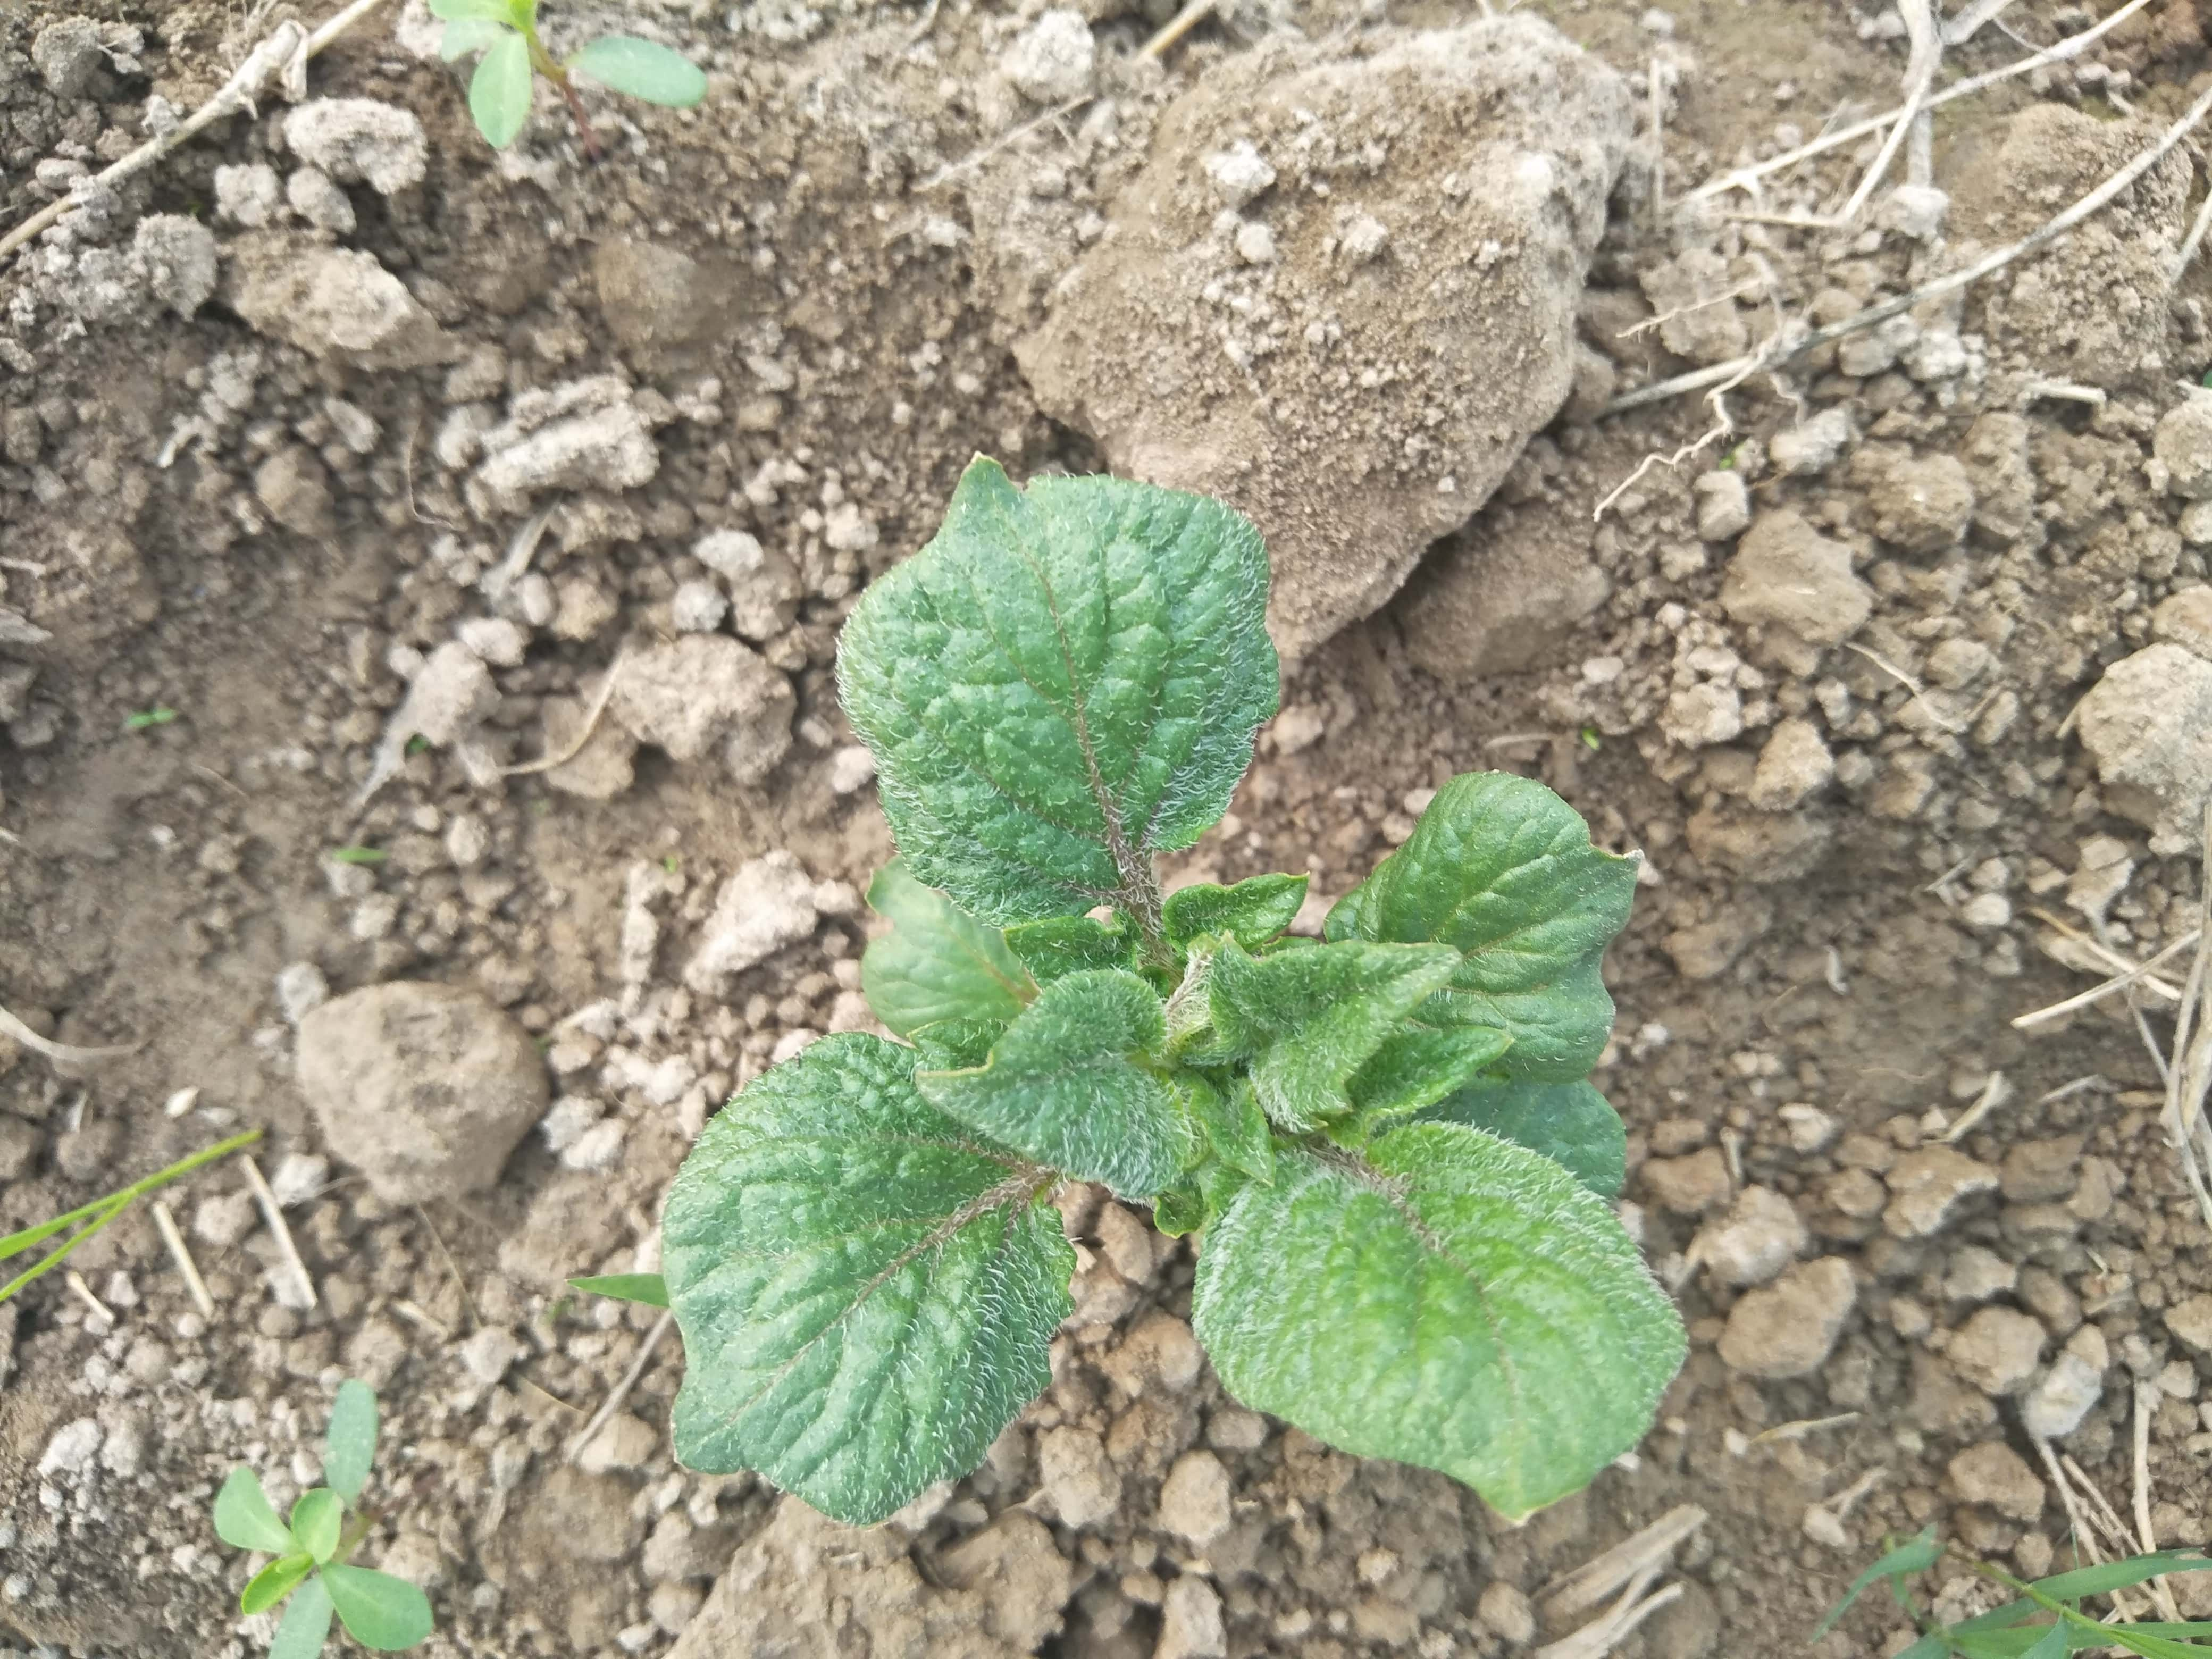daun: (838, 469, 1278, 918), (671, 1051, 1066, 1523), (1195, 1131, 1674, 1511), (1348, 770, 1639, 985), (934, 981, 1198, 1197), (1205, 946, 1507, 1103), (848, 863, 1040, 1040), (1143, 863, 1312, 941)
